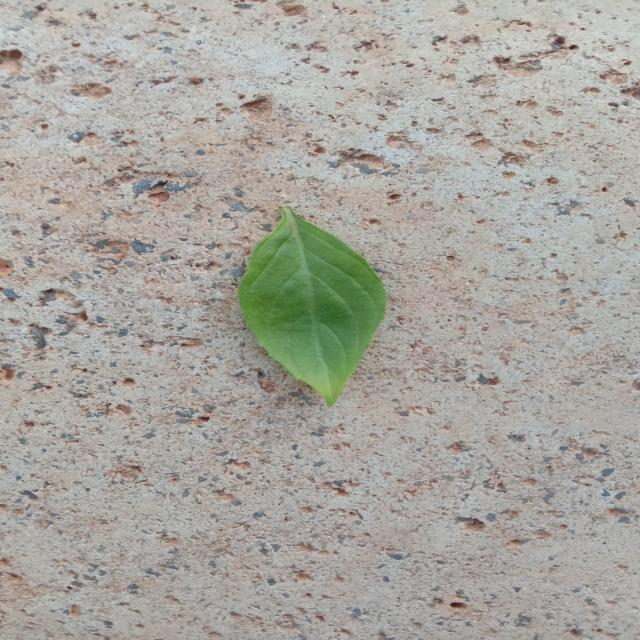kamakasturi: (239, 206, 387, 406)
